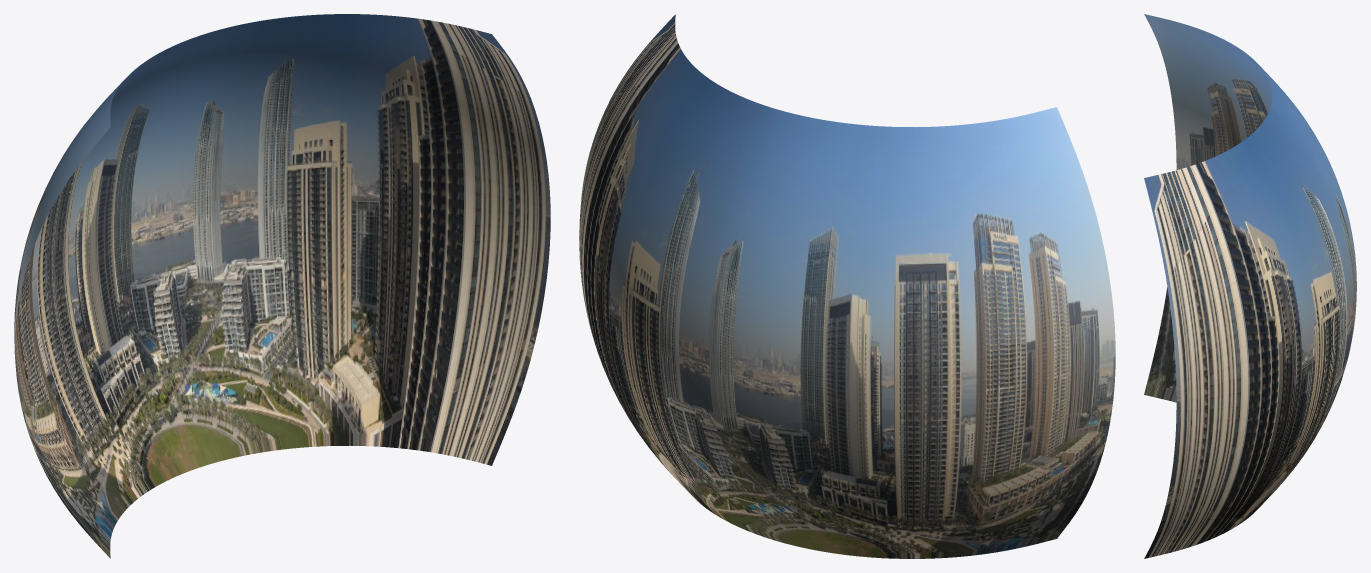
3 views of the same model, side by side, from view 1: azimuth 30°, elevation 25°; view 2: azimuth 150°, elevation 25°; view 3: azimuth 270°, elevation 25° (orthographic). The views are drawn at different scales.
Parts seen in each view (by area): view 1: BG01; view 2: BG01; view 3: BG01.
Boxes of the visible parts, box(x1,y1,x2,y2) form: BG01: box(14, 14, 550, 558); BG01: box(579, 14, 1115, 558); BG01: box(1144, 14, 1356, 558).
Size of the model in its own units: 243 by 188 by 95.05.
Materials: 1 (1 with a texture image).
